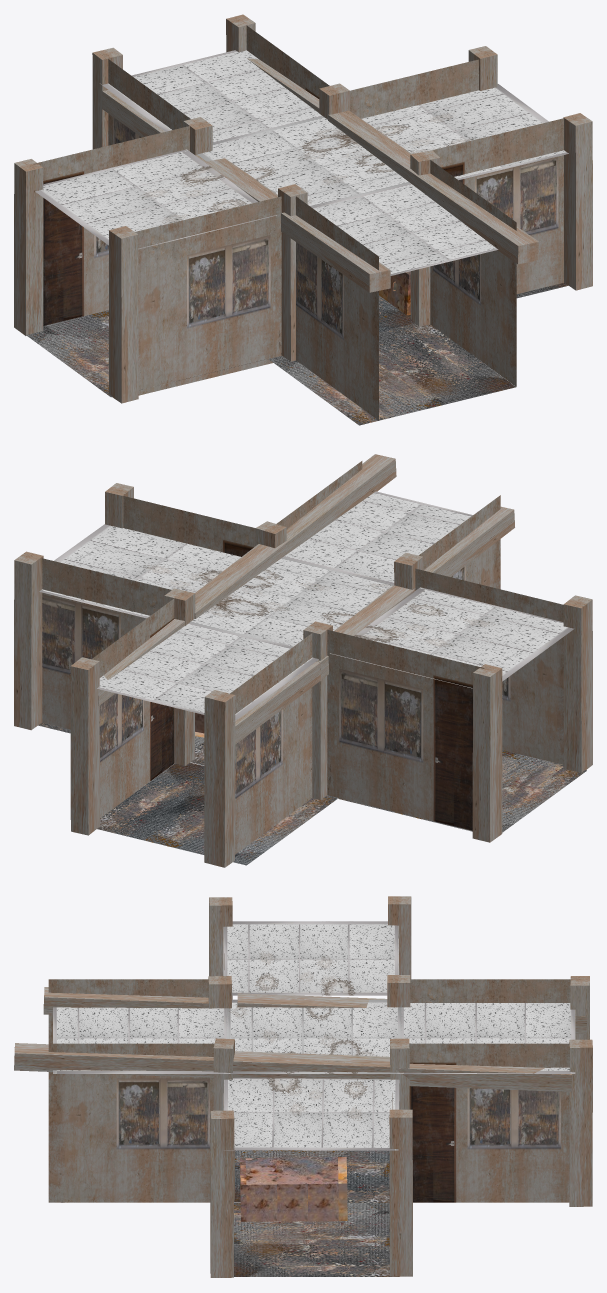
The model's file is t_left.gltf.
3 views of the same model, one above another, from view 1: azimuth 30°, elevation 25°; view 2: azimuth 150°, elevation 25°; view 3: azimuth 270°, elevation 25° (orthographic). The views are drawn at different scales.
Visible parts, largest first — view 1: center_left_back_wall.001, front_left_wall, center_right_back_wall, cieling_center_left, floor_front, center_left_back_wall, cieling_center, cieling_back, front_right_wall, cieling_front, cieling_center_right, center_pillar_left.001 (+21 smaller); view 2: center_left_back_wall, back_left_wall, cieling_center_left, center_right_back_wall.001, cieling_back, cieling_center, center_left_back_wall.001, cieling_front, back_right_wall, floor_back, cieling_center_right, back_left_pillar (+19 smaller); view 3: front_right_wall, back_right_wall, cieling_center_left, cieling_center_right, floor_center_right, cieling_center, cieling_back, metal_file_cabinet.002, cieling_front, center_pillar_left.002, front_right_support_beam, center_left_pillar.002 (+15 smaller).
Boxes of the visible parts, left/top/right/bottom form: center_left_back_wall.001: left=135, top=196, right=281, bottom=395; front_left_wall: left=296, top=196, right=378, bottom=420; center_right_back_wall: left=432, top=118, right=563, bottom=293; cieling_center_left: left=35, top=149, right=276, bottom=249; floor_front: left=268, top=323, right=515, bottom=425; center_left_back_wall: left=33, top=126, right=189, bottom=325; cieling_center: left=197, top=116, right=410, bottom=206; cieling_back: left=100, top=50, right=322, bottom=142; front_right_wall: left=430, top=160, right=516, bottom=386; cieling_front: left=311, top=183, right=498, bottom=275; cieling_center_right: left=362, top=83, right=568, bottom=180; center_pillar_left.001: left=109, top=226, right=138, bottom=403; center_left_back_wall: left=327, top=629, right=484, bottom=830; back_left_wall: left=230, top=633, right=312, bottom=854; cieling_center_left: left=330, top=587, right=574, bottom=688; center_right_back_wall.001: left=42, top=558, right=171, bottom=729; cieling_back: left=97, top=623, right=318, bottom=721; cieling_center: left=189, top=557, right=413, bottom=647; center_left_back_wall.001: left=415, top=568, right=563, bottom=764; cieling_front: left=283, top=491, right=472, bottom=589; back_right_wall: left=92, top=598, right=174, bottom=818; floor_back: left=97, top=762, right=337, bottom=865; cieling_center_right: left=39, top=524, right=240, bottom=618; back_left_pillar: left=204, top=690, right=235, bottom=867; front_right_wall: left=48, top=1043, right=214, bottom=1202; back_right_wall: left=409, top=1043, right=569, bottom=1202; cieling_center_left: left=223, top=921, right=398, bottom=995; cieling_center_right: left=223, top=1078, right=399, bottom=1150; floor_center_right: left=234, top=1202, right=399, bottom=1276; cieling_center: left=226, top=999, right=402, bottom=1073; cieling_back: left=400, top=1003, right=575, bottom=1073; metal_file_cabinet.002: left=240, top=1157, right=347, bottom=1221; cieling_front: left=53, top=1007, right=228, bottom=1073; center_pillar_left.002: left=210, top=1110, right=234, bottom=1277; front_right_support_beam: left=14, top=1043, right=213, bottom=1077; center_left_pillar.002: left=389, top=1109, right=412, bottom=1276.
Size of the model in its own units: 6.06 by 2.07 by 6.6.
Materials: 10 (10 with a texture image).
